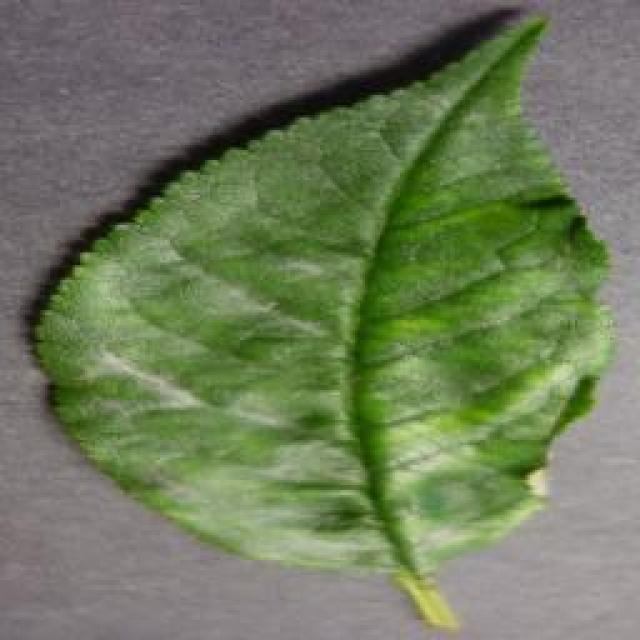Cherry___Powdery_mildew: (12, 5, 628, 640)
